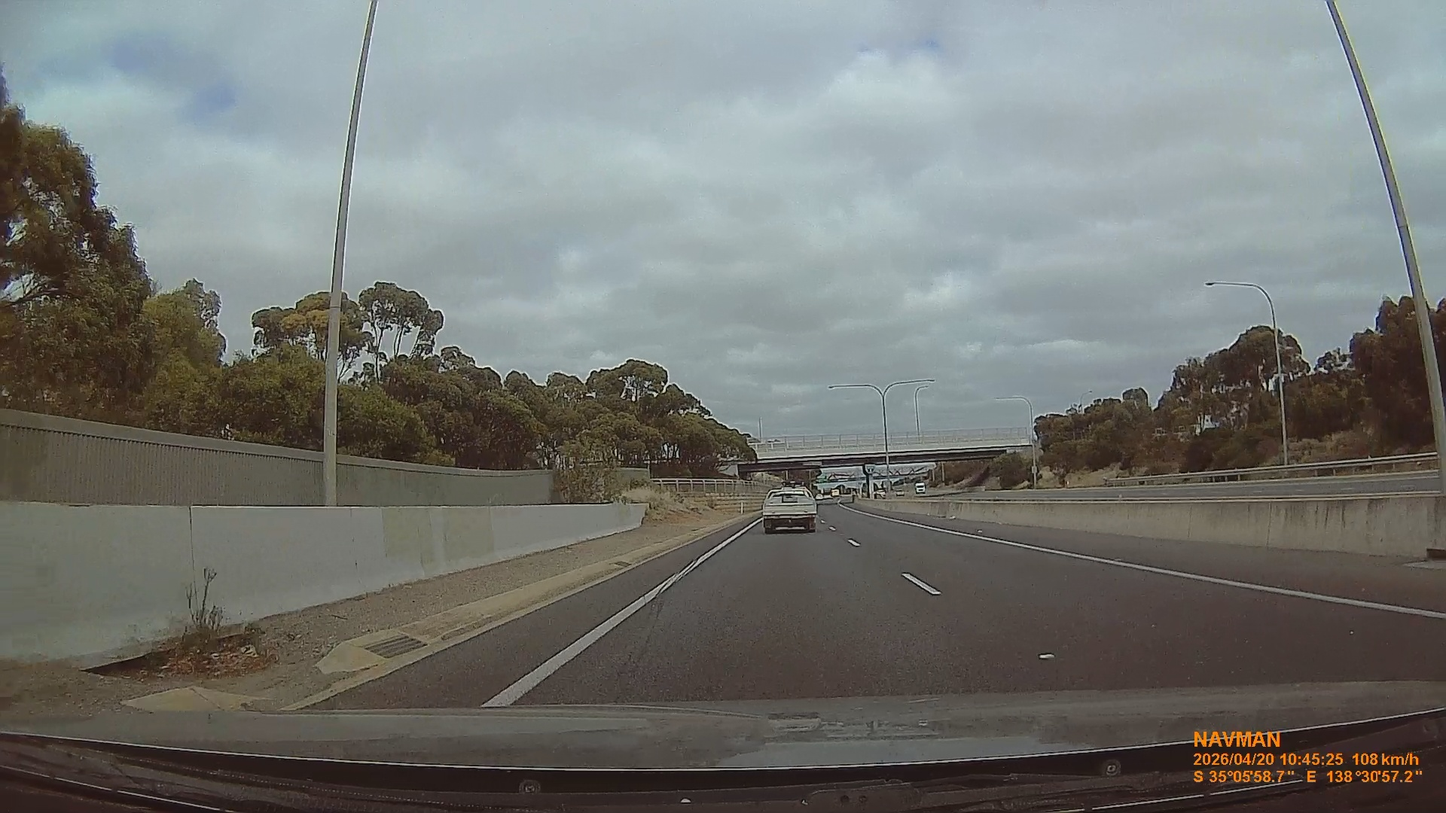road barriers: (2, 501, 631, 659), (865, 485, 1440, 561)
